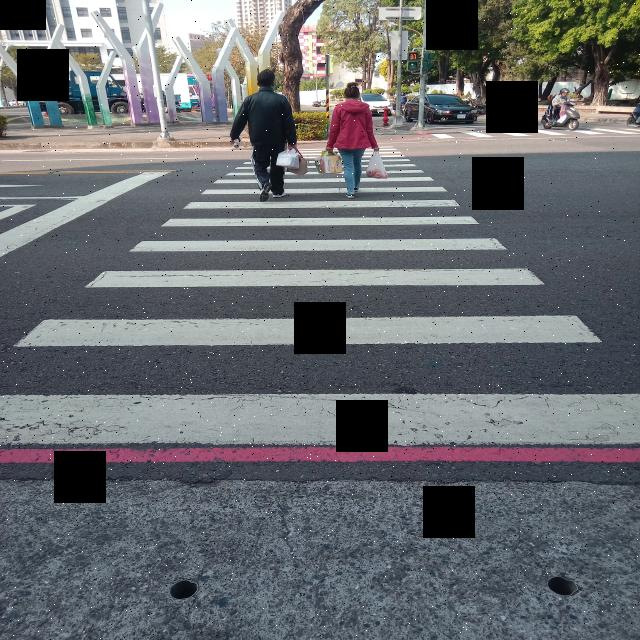person: (230, 70, 297, 201), (327, 82, 378, 199)
zebra crossing: (2, 145, 639, 445), (433, 127, 635, 143)
